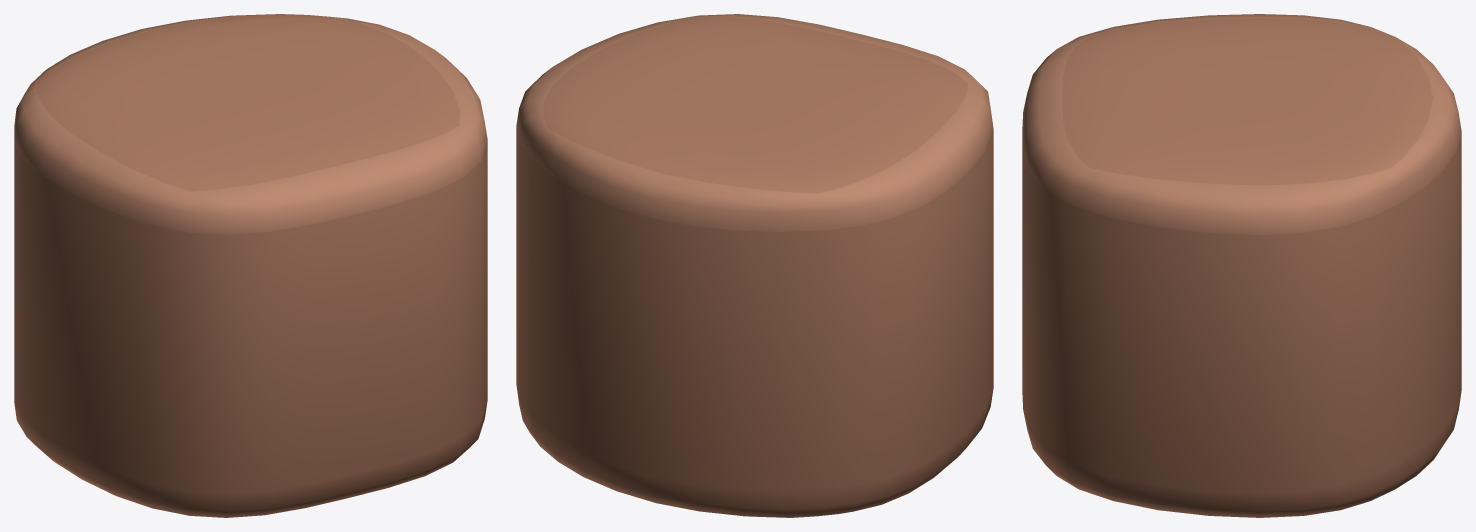
File: big_stone_1_brown.fbx
The picture shows the model from 3 angles, left to right: view 1: azimuth 30°, elevation 25°; view 2: azimuth 150°, elevation 25°; view 3: azimuth 270°, elevation 25°; orthographic projection.
Parts seen in each view (by area): view 1: big_stone_1_brown; view 2: big_stone_1_brown; view 3: big_stone_1_brown.
Part boxes in pixels (x1,y1,x2,y2): big_stone_1_brown: (14, 14, 487, 517); big_stone_1_brown: (516, 14, 993, 517); big_stone_1_brown: (1022, 14, 1461, 517).
Bounding box in the file's own units: 251 × 200 × 235.
